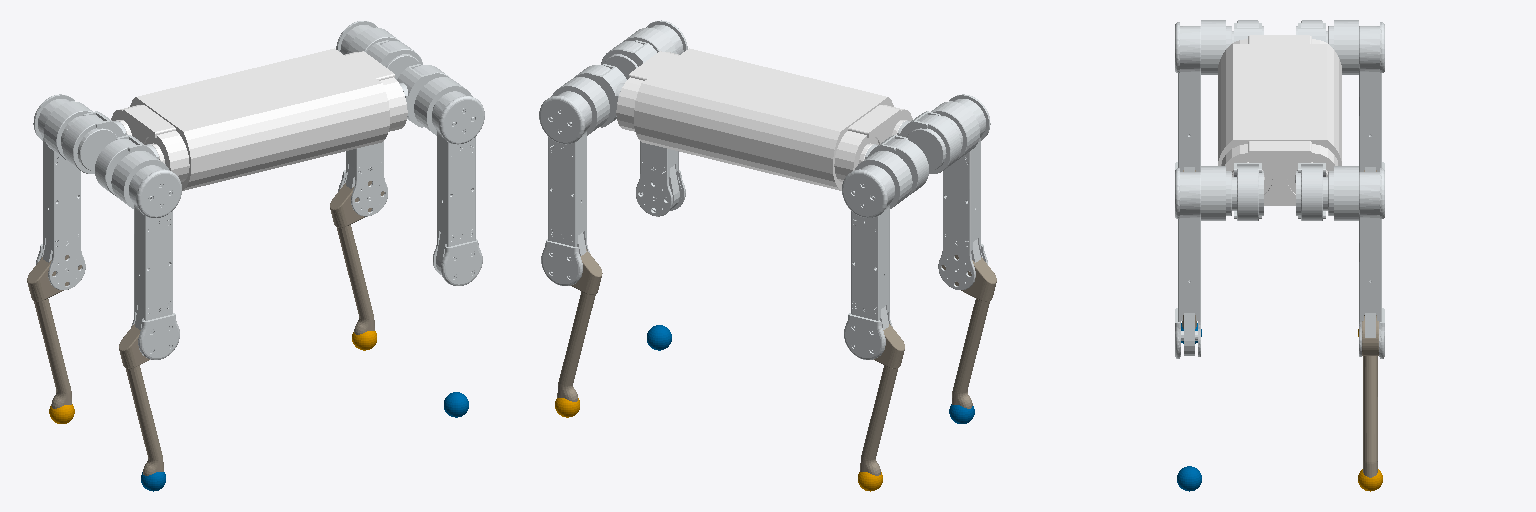
robot.urdf — siriusmid_belt_description:
<?xml version="1.0" encoding="utf-8"?>
<!-- This URDF was automatically created by SolidWorks to URDF Exporter! Originally created by [author] ([email redacted]) 
     Commit Version: 1.6.0-4-g7f85cfe  Build Version: 1.6.7995.38578
     For more information, please see http://wiki.ros.org/sw_urdf_exporter -->
<robot
  name="siriusmid_belt_description">
  <link
    name="body_link">
    <inertial>
      <origin
        xyz="1.87559379909119E-17 -4.34397560491855E-18 -0.00068561787443388"
        rpy="0 0 0" />
      <mass
        value="10.3298529395913" />
      <inertia
        ixx="0.0431054681860875"
        ixy="9.2877162666434E-18"
        ixz="-3.85431142075972E-19"
        iyy="0.192406723092444"
        iyz="1.5156751555308E-18"
        izz="0.216111754062656" />
    </inertial>
    <visual>
      <origin
        xyz="0 0 0"
        rpy="0 0 0" />
      <geometry>
        <mesh
          filename="package://siriusmid_belt_description/meshes/body_link.STL" />
      </geometry>
      <material
        name="">
        <color
          rgba="1 1 1 1" />
      </material>
    </visual>
    <collision>
      <origin
        xyz="0 0 0"
        rpy="0 0 0" />
      <geometry>
        <mesh
          filename="package://siriusmid_belt_description/meshes/body_link.STL" />
      </geometry>
    </collision>
  </link>
  <link
    name="rf_abad_link">
    <inertial>
      <origin
        xyz="0.0258192165959408 -7.26236163138781E-08 0.0524275468313256"
        rpy="0 0 0" />
      <mass
        value="1.97468818481228" />
      <inertia
        ixx="0.00224471294806031"
        ixy="9.22913376753817E-09"
        ixz="-0.000156350222521567"
        iyy="0.0032012780882216"
        iyz="1.70689440514772E-11"
        izz="0.0030773621949221" />
    </inertial>
    <visual>
      <origin
        xyz="0 0 0"
        rpy="0 0 0" />
      <geometry>
        <mesh
          filename="package://siriusmid_belt_description/meshes/rf_abad_link.STL" />
      </geometry>
      <material
        name="">
        <color
          rgba="0.898039215686275 0.917647058823529 0.929411764705882 1" />
      </material>
    </visual>
    <collision>
      <origin
        xyz="0 0 0"
        rpy="0 0 0" />
      <geometry>
        <mesh
          filename="package://siriusmid_belt_description/meshes/rf_abad_link.STL" />
      </geometry>
    </collision>
  </link>
  <joint
    name="rf_abad_joint"
    type="revolute">
    <origin
      xyz="0.241 -0.055 0"
      rpy="-1.5708 0 -1.5708" />
    <parent
      link="body_link" />
    <child
      link="rf_abad_link" />
    <axis
      xyz="0 0 -1" />
    <limit
      lower="-2.88"
      upper="2.88"
      effort="25"
      velocity="15" />
    <safety_controller
      soft_upper_limit="2.78"
      soft_lower_limit="-2.78"
      k_position="500"
      k_velocity="5" />
  </joint>
  <link
    name="rf_hip_link">
    <inertial>
      <origin
        xyz="0.116650617270062 -4.72680310503737E-06 0.00350289524078171"
        rpy="0 0 0" />
      <mass
        value="1.04888992713168" />
      <inertia
        ixx="0.000606304950867143"
        ixy="-4.37435372446955E-07"
        ixz="4.39293428916562E-05"
        iyy="0.0123505150681065"
        iyz="-1.23652493672397E-08"
        izz="0.0125461327293142" />
    </inertial>
    <visual>
      <origin
        xyz="0 0 0"
        rpy="0 0 0" />
      <geometry>
        <mesh
          filename="package://siriusmid_belt_description/meshes/rf_hip_link.STL" />
      </geometry>
      <material
        name="">
        <color
          rgba="0.898039215686275 0.917647058823529 0.929411764705882 1" />
      </material>
    </visual>
    <collision>
      <origin
        xyz="0 0 0"
        rpy="0 0 0" />
      <geometry>
        <mesh
          filename="package://siriusmid_belt_description/meshes/rf_hip_link.STL" />
      </geometry>
    </collision>
  </link>
  <joint
    name="rf_hip_joint"
    type="revolute">
    <origin
      xyz="0.10045 0 0.055499"
      rpy="1.5708 0 1.5708" />
    <parent
      link="rf_abad_link" />
    <child
      link="rf_hip_link" />
    <axis
      xyz="0 0 -1" />
    <limit
      lower="-2.88"
      upper="2.88"
      effort="25"
      velocity="15" />
    <safety_controller
      soft_upper_limit="2.78"
      soft_lower_limit="-2.78"
      k_position="500"
      k_velocity="5" />

  </joint>
  <link
    name="rf_knee_link">
    <inertial>
      <origin
        xyz="0.063196 -0.011258 3.135E-08"
        rpy="0 0 0" />
      <mass
        value="0.39106" />
      <inertia
        ixx="0.00023075"
        ixy="-0.00012831"
        ixz="6.1437E-09"
        iyy="0.0036579"
        iyz="1.8114E-09"
        izz="0.003834" />
    </inertial>
    <visual>
      <origin
        xyz="0 0 0"
        rpy="0 0 0" />
      <geometry>
        <mesh
          filename="package://siriusmid_belt_description/meshes/rf_knee_link.STL" />
      </geometry>
      <material
        name="">
        <color
          rgba="0.65882 0.61961 0.56078 1" />
      </material>
    </visual>
    <collision>
      <origin
        xyz="0 0 0"
        rpy="0 0 0" />
      <geometry>
        <mesh
          filename="package://siriusmid_belt_description/meshes/rf_knee_link.STL" />
      </geometry>
    </collision>
  </link>
  <joint
    name="rf_knee_joint"
    type="revolute">
    <origin
      xyz="0.2695 0 0"
      rpy="0 0 0" />
    <parent
      link="rf_hip_link" />
    <child
      link="rf_knee_link" />
    <axis
      xyz="0 0 -1" />
    <limit
      lower="-2.88"
      upper="2.88"
      effort="25"
      velocity="15" />
    <safety_controller
      soft_upper_limit="2.78"
      soft_lower_limit="-2.78"
      k_position="500"
      k_velocity="5" />
  </joint>
    <!-- Foot link -->
  <link name="rf_foot_link">
    <collision>
      <origin rpy="0 0 0" xyz="0 0 0"/>
      <geometry>
        <sphere radius="0.02175"/>
      </geometry>
    </collision>
    <visual>
      <geometry>
        <sphere radius="0.02175"/>
      </geometry>
      <material name="Red"/>
    </visual>
    <inertial>
      <origin rpy="0 0 0" xyz="0 0 0"/>
      <mass value="0.003"/>
      <inertia ixx="0." ixy="0" ixz="0" iyy="0" iyz="0" izz="0"/>
    </inertial>
  </link>

    <joint name="rf_foot_joint" type="fixed">
    <origin rpy="1.57079632679 0 -1.57079632679" xyz="0.271 0 0"/>
    <parent link="rf_knee_link"/>
    <child link="rf_foot_link"/>
  </joint>
  <link
    name="lf_abad_link">
    <inertial>
      <origin
        xyz="0.0258192165959408 -7.26181183425299E-08 0.0524275468313256"
        rpy="0 0 0" />
      <mass
        value="1.97468818481228" />
      <inertia
        ixx="0.00224471294806031"
        ixy="9.22911737131753E-09"
        ixz="-0.000156350222521568"
        iyy="0.0032012780882216"
        iyz="1.70559493840729E-11"
        izz="0.0030773621949221" />
    </inertial>
    <visual>
      <origin
        xyz="0 0 0"
        rpy="0 0 0" />
      <geometry>
        <mesh
          filename="package://siriusmid_belt_description/meshes/lf_abad_link.STL" />
      </geometry>
      <material
        name="">
        <color
          rgba="0.898039215686275 0.917647058823529 0.929411764705882 1" />
      </material>
    </visual>
    <collision>
      <origin
        xyz="0 0 0"
        rpy="0 0 0" />
      <geometry>
        <mesh
          filename="package://siriusmid_belt_description/meshes/lf_abad_link.STL" />
      </geometry>
    </collision>
  </link>
  <joint
    name="lf_abad_joint"
    type="revolute">
    <origin
      xyz="0.241 0.055 0"
      rpy="1.5707963267949 0 1.5707963267949" />
    <parent
      link="body_link" />
    <child
      link="lf_abad_link" />
    <axis
      xyz="0 0 -1" />
    <limit
      lower="-2.88"
      upper="2.88"
      effort="25"
      velocity="15" />
    <safety_controller
      soft_upper_limit="2.78"
      soft_lower_limit="-2.78"
      k_position="500"
      k_velocity="5" />
  </joint>
  <link
    name="lf_hip_link">
    <inertial>
      <origin
        xyz="0.116650620494576 -4.72569313886284E-06 0.00350289526011932"
        rpy="0 0 0" />
      <mass
        value="1.04888992329484" />
      <inertia
        ixx="0.000606304929356183"
        ixy="-4.37311731436925E-07"
        ixz="4.39293600211122E-05"
        iyy="0.0123505145373424"
        iyz="-1.2361253696655E-08"
        izz="0.0125461321777431" />
    </inertial>
    <visual>
      <origin
        xyz="0 0 0"
        rpy="0 0 0" />
      <geometry>
        <mesh
          filename="package://siriusmid_belt_description/meshes/lf_hip_link.STL" />
      </geometry>
      <material
        name="">
        <color
          rgba="0.898039215686275 0.917647058823529 0.929411764705882 1" />
      </material>
    </visual>
    <collision>
      <origin
        xyz="0 0 0"
        rpy="0 0 0" />
      <geometry>
        <mesh
          filename="package://siriusmid_belt_description/meshes/lf_hip_link.STL" />
      </geometry>
    </collision>
  </link>
  <joint
    name="lf_hip_joint"
    type="revolute">
    <origin
      xyz="0.10045 0 0.0554994371876099"
      rpy="-1.5707963267949 0 -1.5707963267949" />
    <parent
      link="lf_abad_link" />
    <child
      link="lf_hip_link" />
    <axis
      xyz="0 0 1" />
    <limit
      lower="-2.88"
      upper="2.88"
      effort="25"
      velocity="15" />
    <safety_controller
      soft_upper_limit="2.78"
      soft_lower_limit="-2.78"
      k_position="500"
      k_velocity="5" />
  </joint>
  <link
    name="lf_knee_link">
    <inertial>
      <origin
        xyz="0.0631956658016697 0.0112575879832314 -3.13498765280862E-08"
        rpy="0 0 0" />
      <mass
        value="0.391062323768813" />
      <inertia
        ixx="0.000230753382412109"
        ixy="0.000128309113413456"
        ixz="-6.1436771836509E-09"
        iyy="0.00365788306841941"
        iyz="1.81135021036375E-09"
        izz="0.00383395531746306" />
    </inertial>
    <visual>
      <origin
        xyz="0 0 0"
        rpy="0 0 0" />
      <geometry>
        <mesh
          filename="package://siriusmid_belt_description/meshes/lf_knee_link.STL" />
      </geometry>
      <material
        name="">
        <color
          rgba="0.658823529411765 0.619607843137255 0.56078431372549 1" />
      </material>
    </visual>
    <collision>
      <origin
        xyz="0 0 0"
        rpy="0 0 0" />
      <geometry>
        <mesh
          filename="package://siriusmid_belt_description/meshes/lf_knee_link.STL" />
      </geometry>
    </collision>
  </link>
  <joint
    name="lf_knee_joint"
    type="revolute">
    <origin
      xyz="0.2695 0 0"
      rpy="0 0 0" />
    <parent
      link="lf_hip_link" />
    <child
      link="lf_knee_link" />
    <axis
      xyz="0 0 1" />
    <limit
      lower="-2.88"
      upper="2.88"
      effort="25"
      velocity="15" />
    <safety_controller
      soft_upper_limit="2.78"
      soft_lower_limit="-2.78"
      k_position="500"
      k_velocity="5" />
  </joint>
  <link name="lf_foot_link">
    <collision>
      <origin rpy="0 0 0" xyz="0 0 0"/>
      <geometry>
        <sphere radius="0.02175"/>
      </geometry>
    </collision>
    <visual>
      <geometry>
        <sphere radius="0.02175"/>
      </geometry>
      <material name="Red"/>
    </visual>
    <inertial>
      <origin rpy="0 0 0" xyz="0 0 0"/>
      <mass value="0.003"/>
      <inertia ixx="0." ixy="0" ixz="0" iyy="0" iyz="0" izz="0"/>
    </inertial>
  </link>
      <joint name="lf_foot_joint" type="fixed">
    <origin rpy="1.57079632679 0 -1.57079632679" xyz="0.271 0 0"/>
    <parent link="lf_knee_link"/>
    <child link="lf_foot_link"/>
  </joint>
  <link
    name="rr_abad_link">
    <inertial>
      <origin
        xyz="0.0258192165959408 -7.26236163159085E-08 0.0524275468313256"
        rpy="0 0 0" />
      <mass
        value="1.97468818481228" />
      <inertia
        ixx="0.00224471294806031"
        ixy="9.22913376731601E-09"
        ixz="-0.000156350222521567"
        iyy="0.0032012780882216"
        iyz="1.70689439583096E-11"
        izz="0.0030773621949221" />
    </inertial>
    <visual>
      <origin
        xyz="0 0 0"
        rpy="0 0 0" />
      <geometry>
        <mesh
          filename="package://siriusmid_belt_description/meshes/rr_abad_link.STL" />
      </geometry>
      <material
        name="">
        <color
          rgba="0.898039215686275 0.917647058823529 0.929411764705882 1" />
      </material>
    </visual>
    <collision>
      <origin
        xyz="0 0 0"
        rpy="0 0 0" />
      <geometry>
        <mesh
          filename="package://siriusmid_belt_description/meshes/rr_abad_link.STL" />
      </geometry>
    </collision>
  </link>
  <joint
    name="rr_abad_joint"
    type="revolute">
    <origin
      xyz="-0.241 -0.055 0"
      rpy="1.57079632669003 0 -1.5707963267949" />
    <parent
      link="body_link" />
    <child
      link="rr_abad_link" />
    <axis
      xyz="0 0 -1" />
    <limit
      lower="-2.88"
      upper="2.88"
      effort="25"
      velocity="15" />
    <safety_controller
      soft_upper_limit="2.78"
      soft_lower_limit="-2.78"
      k_position="500"
      k_velocity="5" />
  </joint>
  <link
    name="rr_hip_link">
    <inertial>
      <origin
        xyz="0.116650617270061 -4.72680310498186E-06 0.00350289524078168"
        rpy="0 0 0" />
      <mass
        value="1.04888992713168" />
      <inertia
        ixx="0.000606304950867143"
        ixy="-4.37435372440814E-07"
        ixz="4.39293428916563E-05"
        iyy="0.0123505150681065"
        iyz="-1.23652493663601E-08"
        izz="0.0125461327293142" />
    </inertial>
    <visual>
      <origin
        xyz="0 0 0"
        rpy="0 0 0" />
      <geometry>
        <mesh
          filename="package://siriusmid_belt_description/meshes/rr_hip_link.STL" />
      </geometry>
      <material
        name="">
        <color
          rgba="0.898039215686275 0.917647058823529 0.929411764705882 1" />
      </material>
    </visual>
    <collision>
      <origin
        xyz="0 0 0"
        rpy="0 0 0" />
      <geometry>
        <mesh
          filename="package://siriusmid_belt_description/meshes/rr_hip_link.STL" />
      </geometry>
    </collision>
  </link>
  <joint
    name="rr_hip_joint"
    type="revolute">
    <origin
      xyz="0.10045 0 0.0554994371876102"
      rpy="-1.5707963267949 0 -1.5707963267949" />
    <parent
      link="rr_abad_link" />
    <child
      link="rr_hip_link" />
    <axis
      xyz="0 0 -1" />
    <limit
      lower="-2.88"
      upper="2.88"
      effort="25"
      velocity="15" />
    <safety_controller
      soft_upper_limit="2.78"
      soft_lower_limit="-2.78"
      k_position="500"
      k_velocity="5" />
  </joint>
  <link
    name="rr_knee_link">
    <inertial>
      <origin
        xyz="0.0631956658016613 -0.0112575879832317 3.13498722814831E-08"
        rpy="0 0 0" />
      <mass
        value="0.391062323768767" />
      <inertia
        ixx="0.000230753382412103"
        ixy="-0.000128309113413423"
        ixz="6.14367730807728E-09"
        iyy="0.00365788306841906"
        iyz="1.81135019024049E-09"
        izz="0.00383395531746277" />
    </inertial>
    <visual>
      <origin
        xyz="0 0 0"
        rpy="0 0 0" />
      <geometry>
        <mesh
          filename="package://siriusmid_belt_description/meshes/rr_knee_link.STL" />
      </geometry>
      <material
        name="">
        <color
          rgba="0.658823529411765 0.619607843137255 0.56078431372549 1" />
      </material>
    </visual>
    <collision>
      <origin
        xyz="0 0 0"
        rpy="0 0 0" />
      <geometry>
        <mesh
          filename="package://siriusmid_belt_description/meshes/rr_knee_link.STL" />
      </geometry>
    </collision>
  </link>
  <joint
    name="rr_knee_joint"
    type="revolute">
    <origin
      xyz="0.2695 0 0"
      rpy="0 0 0" />
    <parent
      link="rr_hip_link" />
    <child
      link="rr_knee_link" />
    <axis
      xyz="0 0 -1" />
    <limit
      lower="-2.88"
      upper="2.88"
      effort="25"
      velocity="15" />
    <safety_controller
      soft_upper_limit="2.78"
      soft_lower_limit="-2.78"
      k_position="500"
      k_velocity="5" />
  </joint>
    <link name="rr_foot_link">
    <collision>
      <origin rpy="0 0 0" xyz="0 0 0"/>
      <geometry>
        <sphere radius="0.02175"/>
      </geometry>
    </collision>
    <visual>
      <geometry>
        <sphere radius="0.02175"/>
      </geometry>
      <material name="Red"/>
    </visual>
    <inertial>
      <origin rpy="0 0 0" xyz="0 0 0"/>
      <mass value="0.003"/>
      <inertia ixx="0." ixy="0" ixz="0" iyy="0" iyz="0" izz="0"/>
    </inertial>
  </link>
      <joint name="rr_foot_joint" type="fixed">
    <origin rpy="1.57079632679 0 -1.57079632679" xyz="0.271 0 0"/>
    <parent link="rr_knee_link"/>
    <child link="rr_foot_link"/>
  </joint>
  <link
    name="lr_abad_link">
    <inertial>
      <origin
        xyz="0.025819 -7.2618E-08 0.052428"
        rpy="0 0 0" />
      <mass
        value="1.9747" />
      <inertia
        ixx="0.0022447"
        ixy="9.2291E-09"
        ixz="-0.00015635"
        iyy="0.0032013"
        iyz="1.7056E-11"
        izz="0.0030774" />
    </inertial>
    <visual>
      <origin
        xyz="0 0 0"
        rpy="0 0 0" />
      <geometry>
        <mesh
          filename="package://siriusmid_belt_description/meshes/lr_abad_link.STL" />
      </geometry>
      <material
        name="">
        <color
          rgba="0.89804 0.91765 0.92941 1" />
      </material>
    </visual>
    <collision>
      <origin
        xyz="0 0 0"
        rpy="0 0 0" />
      <geometry>
        <mesh
          filename="package://siriusmid_belt_description/meshes/lr_abad_link.STL" />
      </geometry>
    </collision>
  </link>
  <joint
    name="lr_abad_joint"
    type="revolute">
    <origin
      xyz="-0.241 0.055 0"
      rpy="-1.5708 0 1.5708" />
    <parent
      link="body_link" />
    <child
      link="lr_abad_link" />
    <axis
      xyz="0 0 -1" />
    <limit
      lower="-2.88"
      upper="2.88"
      effort="25"
      velocity="15" />
    <safety_controller
      soft_upper_limit="2.78"
      soft_lower_limit="-2.78"
      k_position="500"
      k_velocity="5" />
  </joint>
  <link
    name="lr_hip_link">
    <inertial>
      <origin
        xyz="0.116650620494577 -4.72569313902937E-06 0.00350289526011938"
        rpy="0 0 0" />
      <mass
        value="1.04888992329485" />
      <inertia
        ixx="0.000606304929356184"
        ixy="-4.37311731435936E-07"
        ixz="4.39293600211125E-05"
        iyy="0.0123505145373424"
        iyz="-1.23612536964897E-08"
        izz="0.0125461321777432" />
    </inertial>
    <visual>
      <origin
        xyz="0 0 0"
        rpy="0 0 0" />
      <geometry>
        <mesh
          filename="package://siriusmid_belt_description/meshes/lr_hip_link.STL" />
      </geometry>
      <material
        name="">
        <color
          rgba="0.898039215686275 0.917647058823529 0.929411764705882 1" />
      </material>
    </visual>
    <collision>
      <origin
        xyz="0 0 0"
        rpy="0 0 0" />
      <geometry>
        <mesh
          filename="package://siriusmid_belt_description/meshes/lr_hip_link.STL" />
      </geometry>
    </collision>
  </link>
  <joint
    name="lr_hip_joint"
    type="revolute">
    <origin
      xyz="0.10045 0 0.0554994371876102"
      rpy="1.5707963267949 0 1.5707963267949" />
    <parent
      link="lr_abad_link" />
    <child
      link="lr_hip_link" />
    <axis
      xyz="0 0 1" />
    <limit
      lower="-2.88"
      upper="2.88"
      effort="25"
      velocity="15" />
    <safety_controller
      soft_upper_limit="2.78"
      soft_lower_limit="-2.78"
      k_position="500"
      k_velocity="5" />
  </joint>
  <link
    name="lr_knee_link">
    <inertial>
      <origin
        xyz="0.063196 0.011258 -3.135E-08"
        rpy="0 0 0" />
      <mass
        value="0.39106" />
      <inertia
        ixx="0.00023075"
        ixy="0.00012831"
        ixz="-6.1437E-09"
        iyy="0.0036579"
        iyz="1.8114E-09"
        izz="0.003834" />
    </inertial>
    <visual>
      <origin
        xyz="0 0 0"
        rpy="0 0 0" />
      <geometry>
        <mesh
          filename="package://siriusmid_belt_description/meshes/lr_knee_link.STL" />
      </geometry>
      <material
        name="">
        <color
          rgba="0.65882 0.61961 0.56078 1" />
      </material>
    </visual>
    <collision>
      <origin
        xyz="0 0 0"
        rpy="0 0 0" />
      <geometry>
        <mesh
          filename="package://siriusmid_belt_description/meshes/lr_knee_link.STL" />
      </geometry>
    </collision>
  </link>
  <joint
    name="lr_knee_joint"
    type="revolute">
    <origin
      xyz="0.2695 0 0"
      rpy="0 0 0" />
    <parent
      link="lr_hip_link" />
    <child
      link="lr_knee_link" />
    <axis
      xyz="0 0 1" />
    <limit
      lower="-2.88"
      upper="2.88"
      effort="25"
      velocity="15" />
    <safety_controller
      soft_upper_limit="2.78"
      soft_lower_limit="-2.78"
      k_position="500"
      k_velocity="5" />
  </joint>
    <link name="lr_foot_link">
    <collision>
      <origin rpy="0 0 0" xyz="0 0 0"/>
      <geometry>
        <sphere radius="0.02175"/>
      </geometry>
    </collision>
    <visual>
      <geometry>
        <sphere radius="0.02175"/>
      </geometry>
      <material name="Red"/>
    </visual>
    <inertial>
      <origin rpy="0 0 0" xyz="0 0 0"/>
      <mass value="0.003"/>
      <inertia ixx="0." ixy="0" ixz="0" iyy="0" iyz="0" izz="0"/>
    </inertial>
  </link>
      <joint name="lr_foot_joint" type="fixed">
    <origin rpy="1.57079632679 0 -1.57079632679" xyz="0.271 0 0"/>
    <parent link="lr_knee_link"/>
    <child link="lr_foot_link"/>
  </joint>
</robot>

--- Facts derived from the render (not from the file) ---
Views: 3 orthographic renders of the robot side by side, from view 1: azimuth 30°, elevation 25°; view 2: azimuth 150°, elevation 25°; view 3: azimuth 270°, elevation 25°.
Robot: siriusmid_belt_description — 17 links, 16 joints (12 revolute, 4 fixed); root link body_link; default pose: every joint at zero.
Visible links, largest first — view 1: body_link, rf_hip_link, rr_hip_link, lr_hip_link, lr_abad_link, lf_hip_link, rr_abad_link, lr_knee_link, lf_knee_link, rr_knee_link, rf_abad_link, lf_abad_link; view 2: body_link, lr_hip_link, lf_hip_link, rr_hip_link, rr_abad_link, rf_hip_link, lr_abad_link, rr_knee_link, lf_knee_link, lr_knee_link, lf_abad_link, rf_abad_link; view 3: body_link, rf_hip_link, lf_hip_link, rr_hip_link, lr_hip_link, rf_abad_link, lf_abad_link, lf_knee_link, rr_abad_link, lr_abad_link.
Boxes of the visible links, bbox=[...] form: body_link: bbox=[111, 48, 407, 190]; rf_hip_link: bbox=[432, 91, 484, 285]; rr_hip_link: bbox=[129, 165, 181, 359]; lr_hip_link: bbox=[33, 94, 85, 289]; lr_abad_link: bbox=[44, 101, 126, 173]; lf_hip_link: bbox=[336, 21, 387, 216]; rr_abad_link: bbox=[95, 135, 168, 208]; lr_knee_link: bbox=[27, 255, 81, 408]; lf_knee_link: bbox=[330, 181, 384, 334]; rr_knee_link: bbox=[119, 324, 163, 475]; rf_abad_link: bbox=[397, 64, 472, 135]; lf_abad_link: bbox=[347, 27, 422, 79]; body_link: bbox=[616, 48, 912, 190]; lr_hip_link: bbox=[842, 165, 894, 359]; lf_hip_link: bbox=[539, 91, 591, 285]; rr_hip_link: bbox=[938, 94, 990, 289]; rr_abad_link: bbox=[897, 101, 979, 173]; rf_hip_link: bbox=[636, 20, 687, 216]; lr_abad_link: bbox=[855, 135, 928, 208]; rr_knee_link: bbox=[942, 255, 996, 408]; lf_knee_link: bbox=[557, 249, 602, 401]; lr_knee_link: bbox=[860, 324, 904, 475]; lf_abad_link: bbox=[551, 64, 626, 135]; rf_abad_link: bbox=[601, 27, 676, 79]; body_link: bbox=[1218, 35, 1341, 205]; rf_hip_link: bbox=[1175, 168, 1200, 358]; lf_hip_link: bbox=[1359, 168, 1384, 358]; rr_hip_link: bbox=[1175, 22, 1200, 171]; lr_hip_link: bbox=[1359, 22, 1384, 171]; rf_abad_link: bbox=[1201, 163, 1263, 220]; lf_abad_link: bbox=[1296, 163, 1358, 220]; lf_knee_link: bbox=[1362, 316, 1378, 477]; rr_abad_link: bbox=[1201, 20, 1263, 74]; lr_abad_link: bbox=[1296, 20, 1358, 74].
Bounding box of the posed robot: 0.7056 × 0.3602 × 0.6173 m (x, y, z).
12 mesh visuals loaded from 13 distinct referenced files (12 binary STL); not drawn: 1 (reference not matched to a file when rendering).
